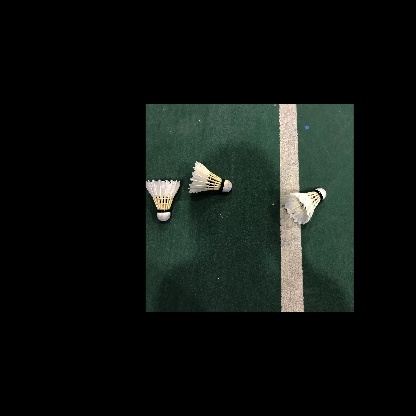ball_single: (284, 188, 326, 225), (146, 179, 180, 221), (188, 161, 232, 193)
